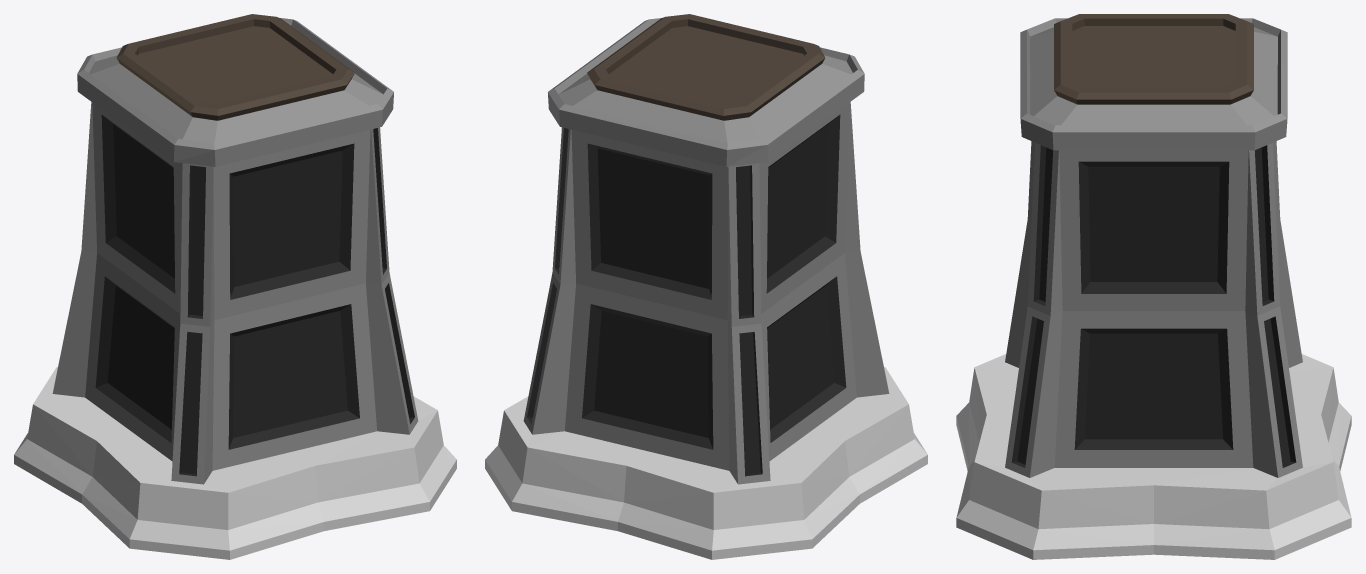
The model's file is Torch_TEST.FBX.
3 renders of one model, left to right at view 1: azimuth 30°, elevation 25°; view 2: azimuth 150°, elevation 25°; view 3: azimuth 270°, elevation 25°, orthographic. The views are drawn at different scales.
Parts seen in each view (by area): view 1: Box001; view 2: Box001; view 3: Box001.
Boxes of the visible parts, x1,y1,x2,y2 form: Box001: (14,14,456,559); Box001: (485,14,927,559); Box001: (956,14,1351,559).
Size of the model in its own units: 0.404 by 0.404 by 0.4779.
